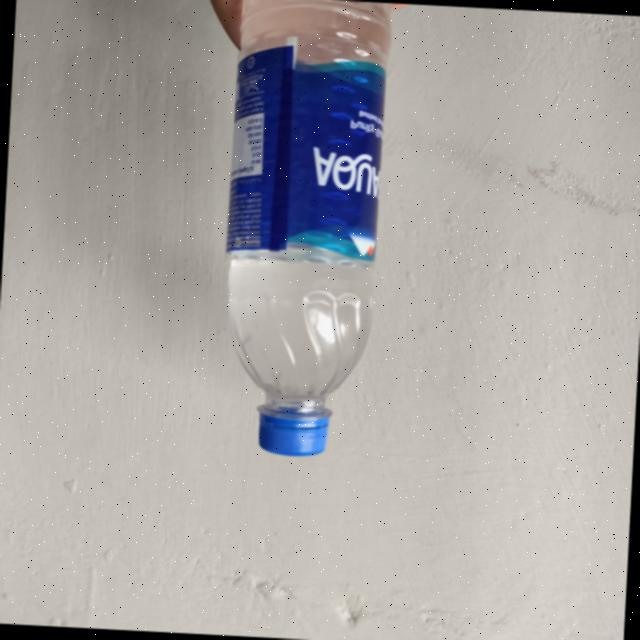bottle: (209, 0, 398, 473)
cap: (256, 399, 335, 456)
label: (221, 59, 397, 271)
